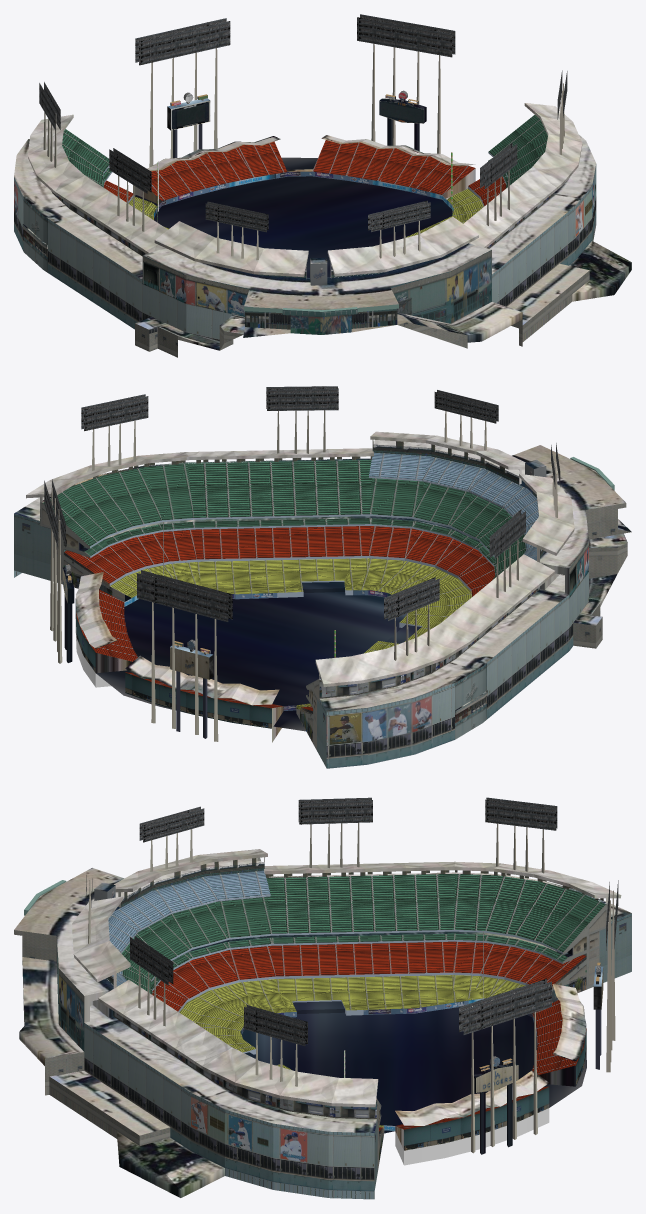
The model's file is estadio-dodgers.fbx.
3 views of the same model, one above another, from view 1: azimuth 30°, elevation 25°; view 2: azimuth 150°, elevation 25°; view 3: azimuth 270°, elevation 25° (orthographic). The views are drawn at different scales.
Parts seen in each view (by area): view 1: Root_mesh648; view 2: Root_mesh648; view 3: Root_mesh648.
Boxes of the visible parts, box(x1,y1,x2,y2) form: Root_mesh648: box(14, 14, 631, 357); Root_mesh648: box(14, 386, 631, 768); Root_mesh648: box(14, 797, 631, 1199).
Bounding box in the file's own units: 26798 × 8338 × 26968.
53 materials, 48 textured.
